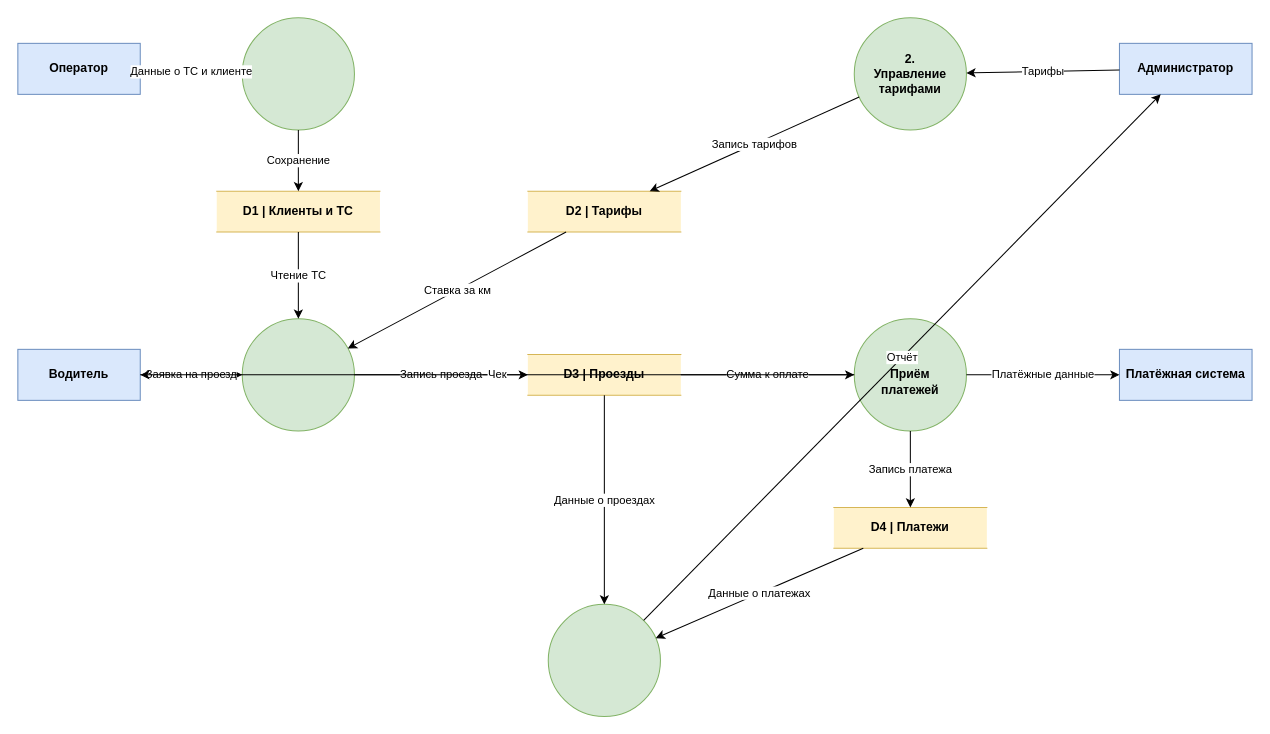
Some shapes in this 1270 by 734 pixel diagram are drawn without their labels. The shapes that lost their labels are listed below. From the top down, each one's centre as x and y in pixels, then its label:
At pixel 297 73: "1. Регистрация".
At pixel 297 374: "3. Фиксация проезда".
At pixel 603 660: "5. Отчётность".
